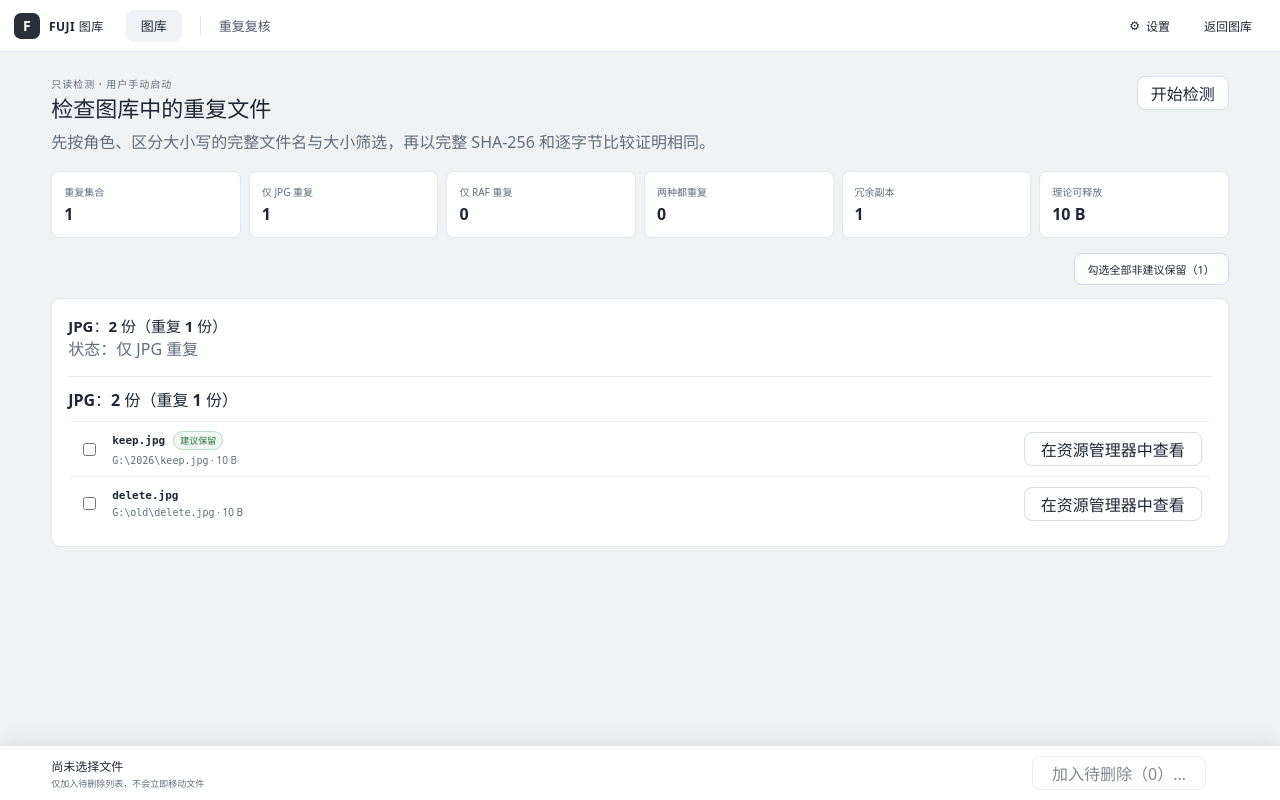
Scenario: DuplicateReviewView › confirms explicit delete and retained paths before creating a mark
The image size is (1280, 800).
Step 1. Click the checkbox named "delete.jpg" → (90, 504), box [83,497,96,510]
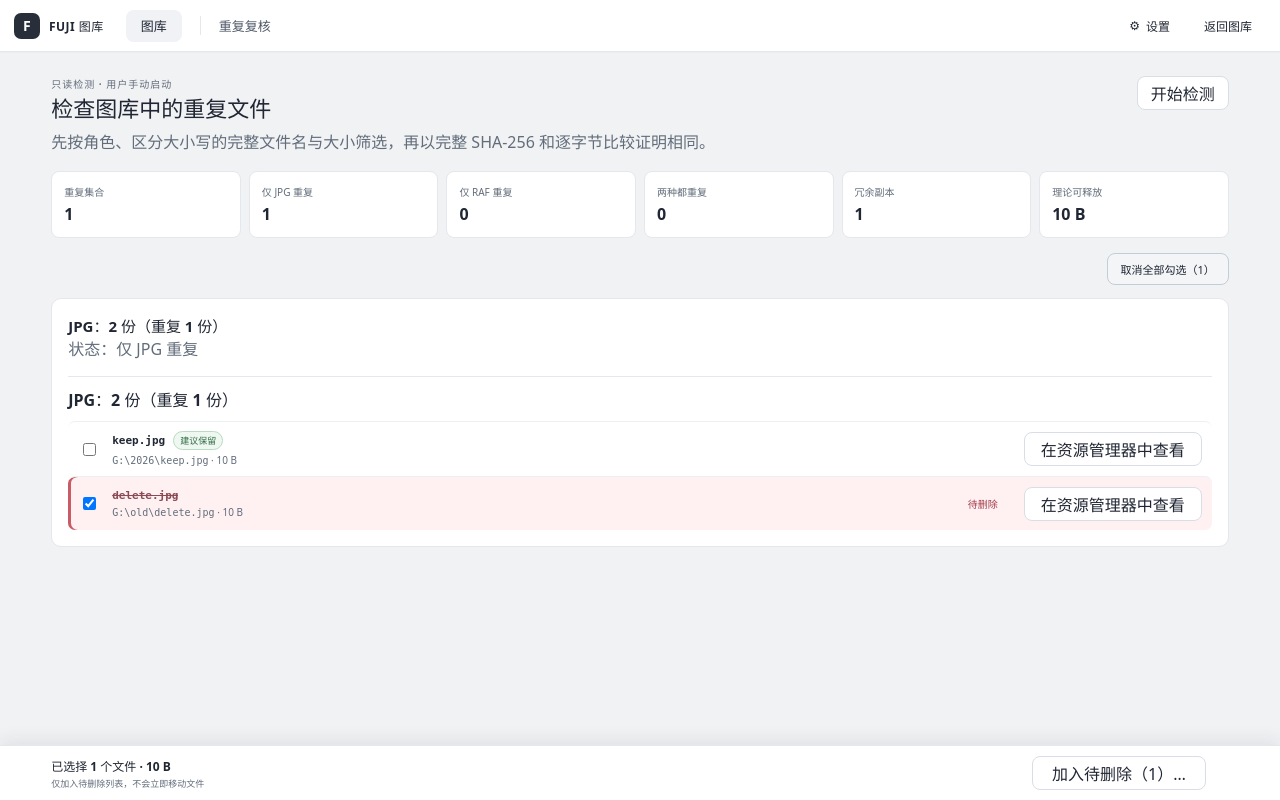
Step 2. Click the button "加入待删除（1）…" → (1119, 773), box [1032,756,1206,790]
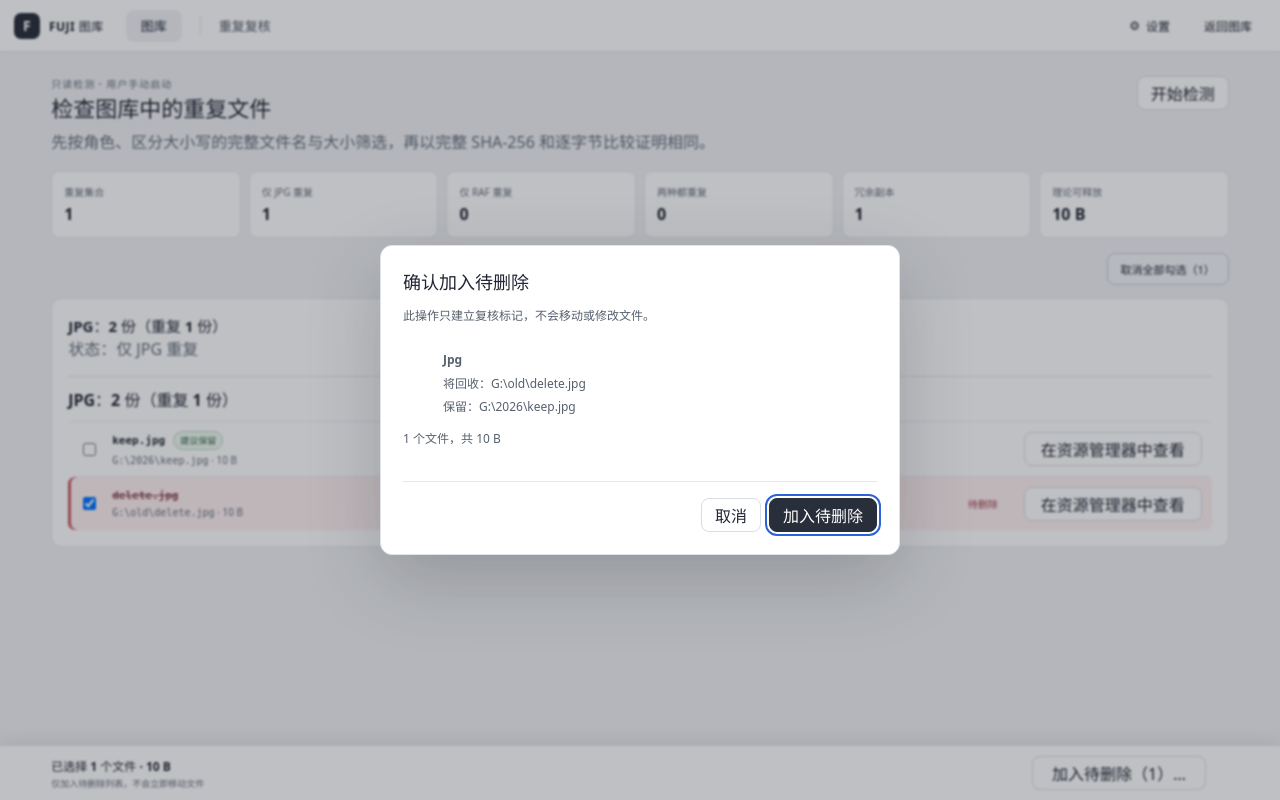
Expected: the element with class "modal-actions" is shown, [403,481,877,532]
Expected: the text "将回收：G:\\old\\delete.jpg" is shown, [443,375,586,392]
Expected: the text "保留：G:\\2026\\keep.jpg" is shown, [443,398,576,415]
